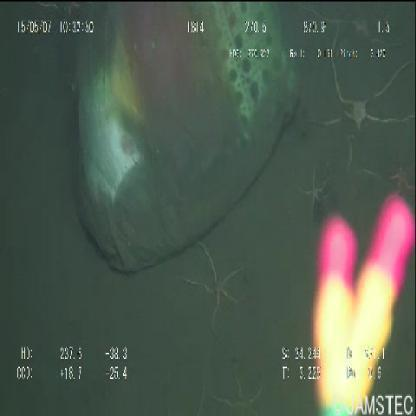Rác: (74, 0, 295, 278)
